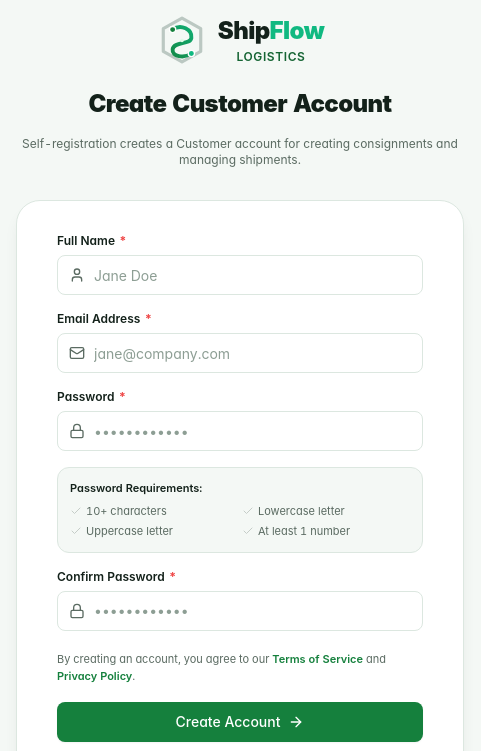
RegisterPage › validates password requirements before submitting
Type "Jane Customer" into the field labelled "Full Name *" at (240, 275), box top-left (57, 255), bottom-right (423, 295)
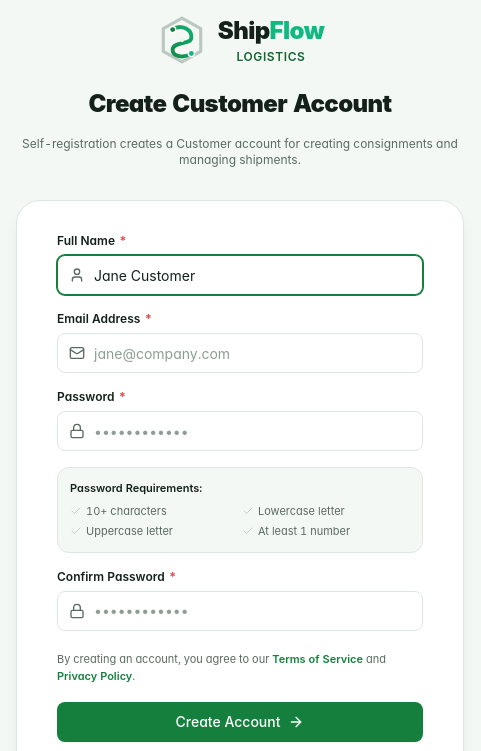
Type "jane@customer.local" into the field labelled "Email Address *" at (240, 353), box top-left (57, 333), bottom-right (423, 373)
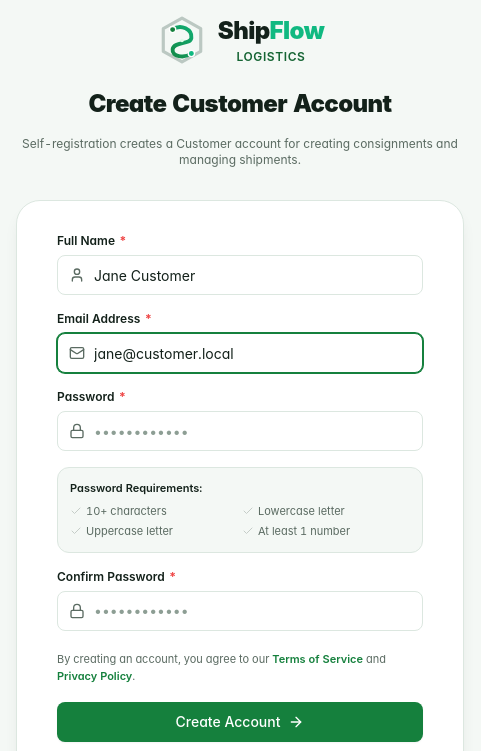
Type "short" into the password field labelled "Password *" at (240, 431), box top-left (57, 411), bottom-right (423, 451)
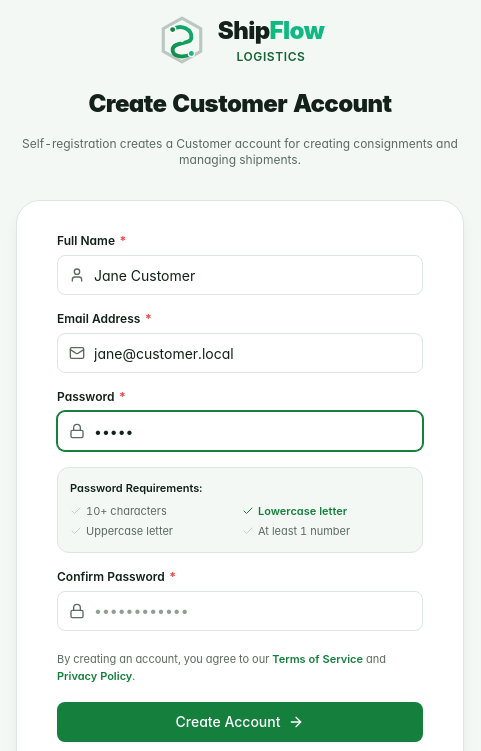
Type "mismatch" into the password field labelled "Confirm Password *" at (240, 610), box top-left (57, 590), bottom-right (423, 630)
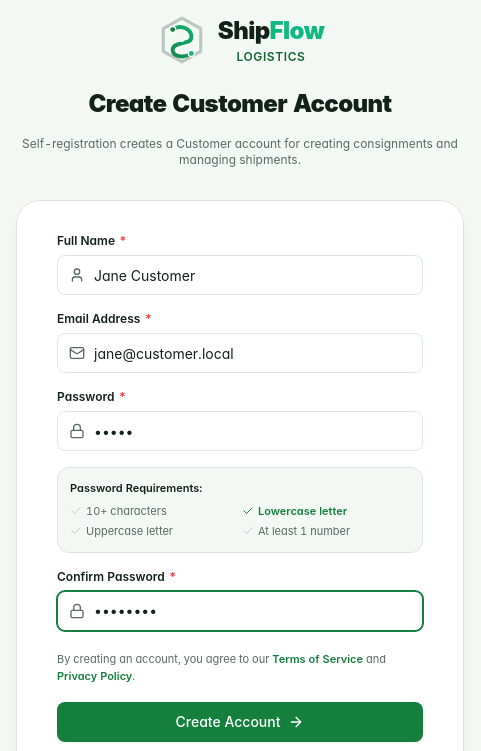
Click the button "Create Account" at (240, 722), box top-left (57, 702), bottom-right (423, 742)
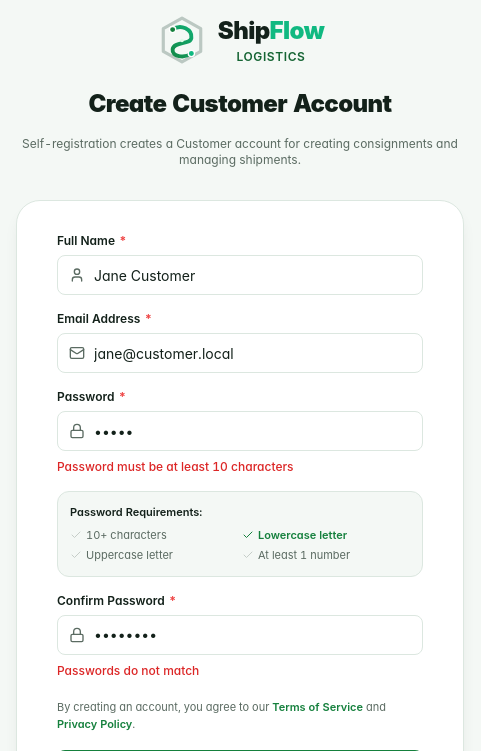
Check: the text "Passwords do not match" is shown, box top-left (57, 662), bottom-right (199, 678)
